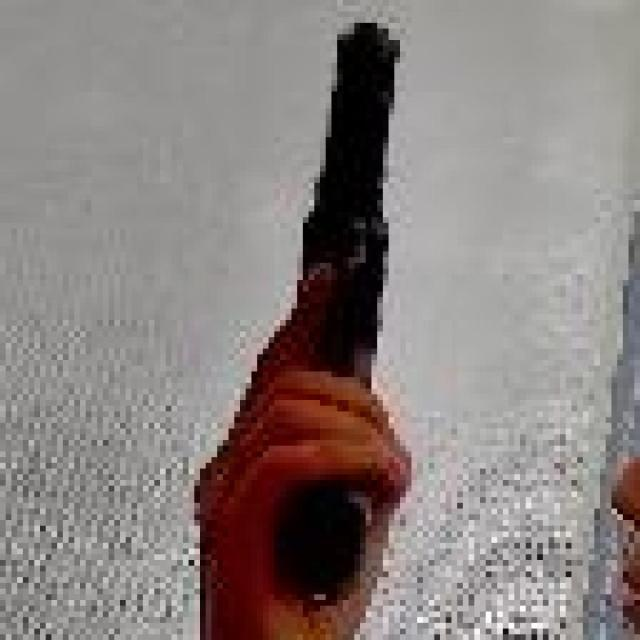pistol: (212, 11, 485, 625)
